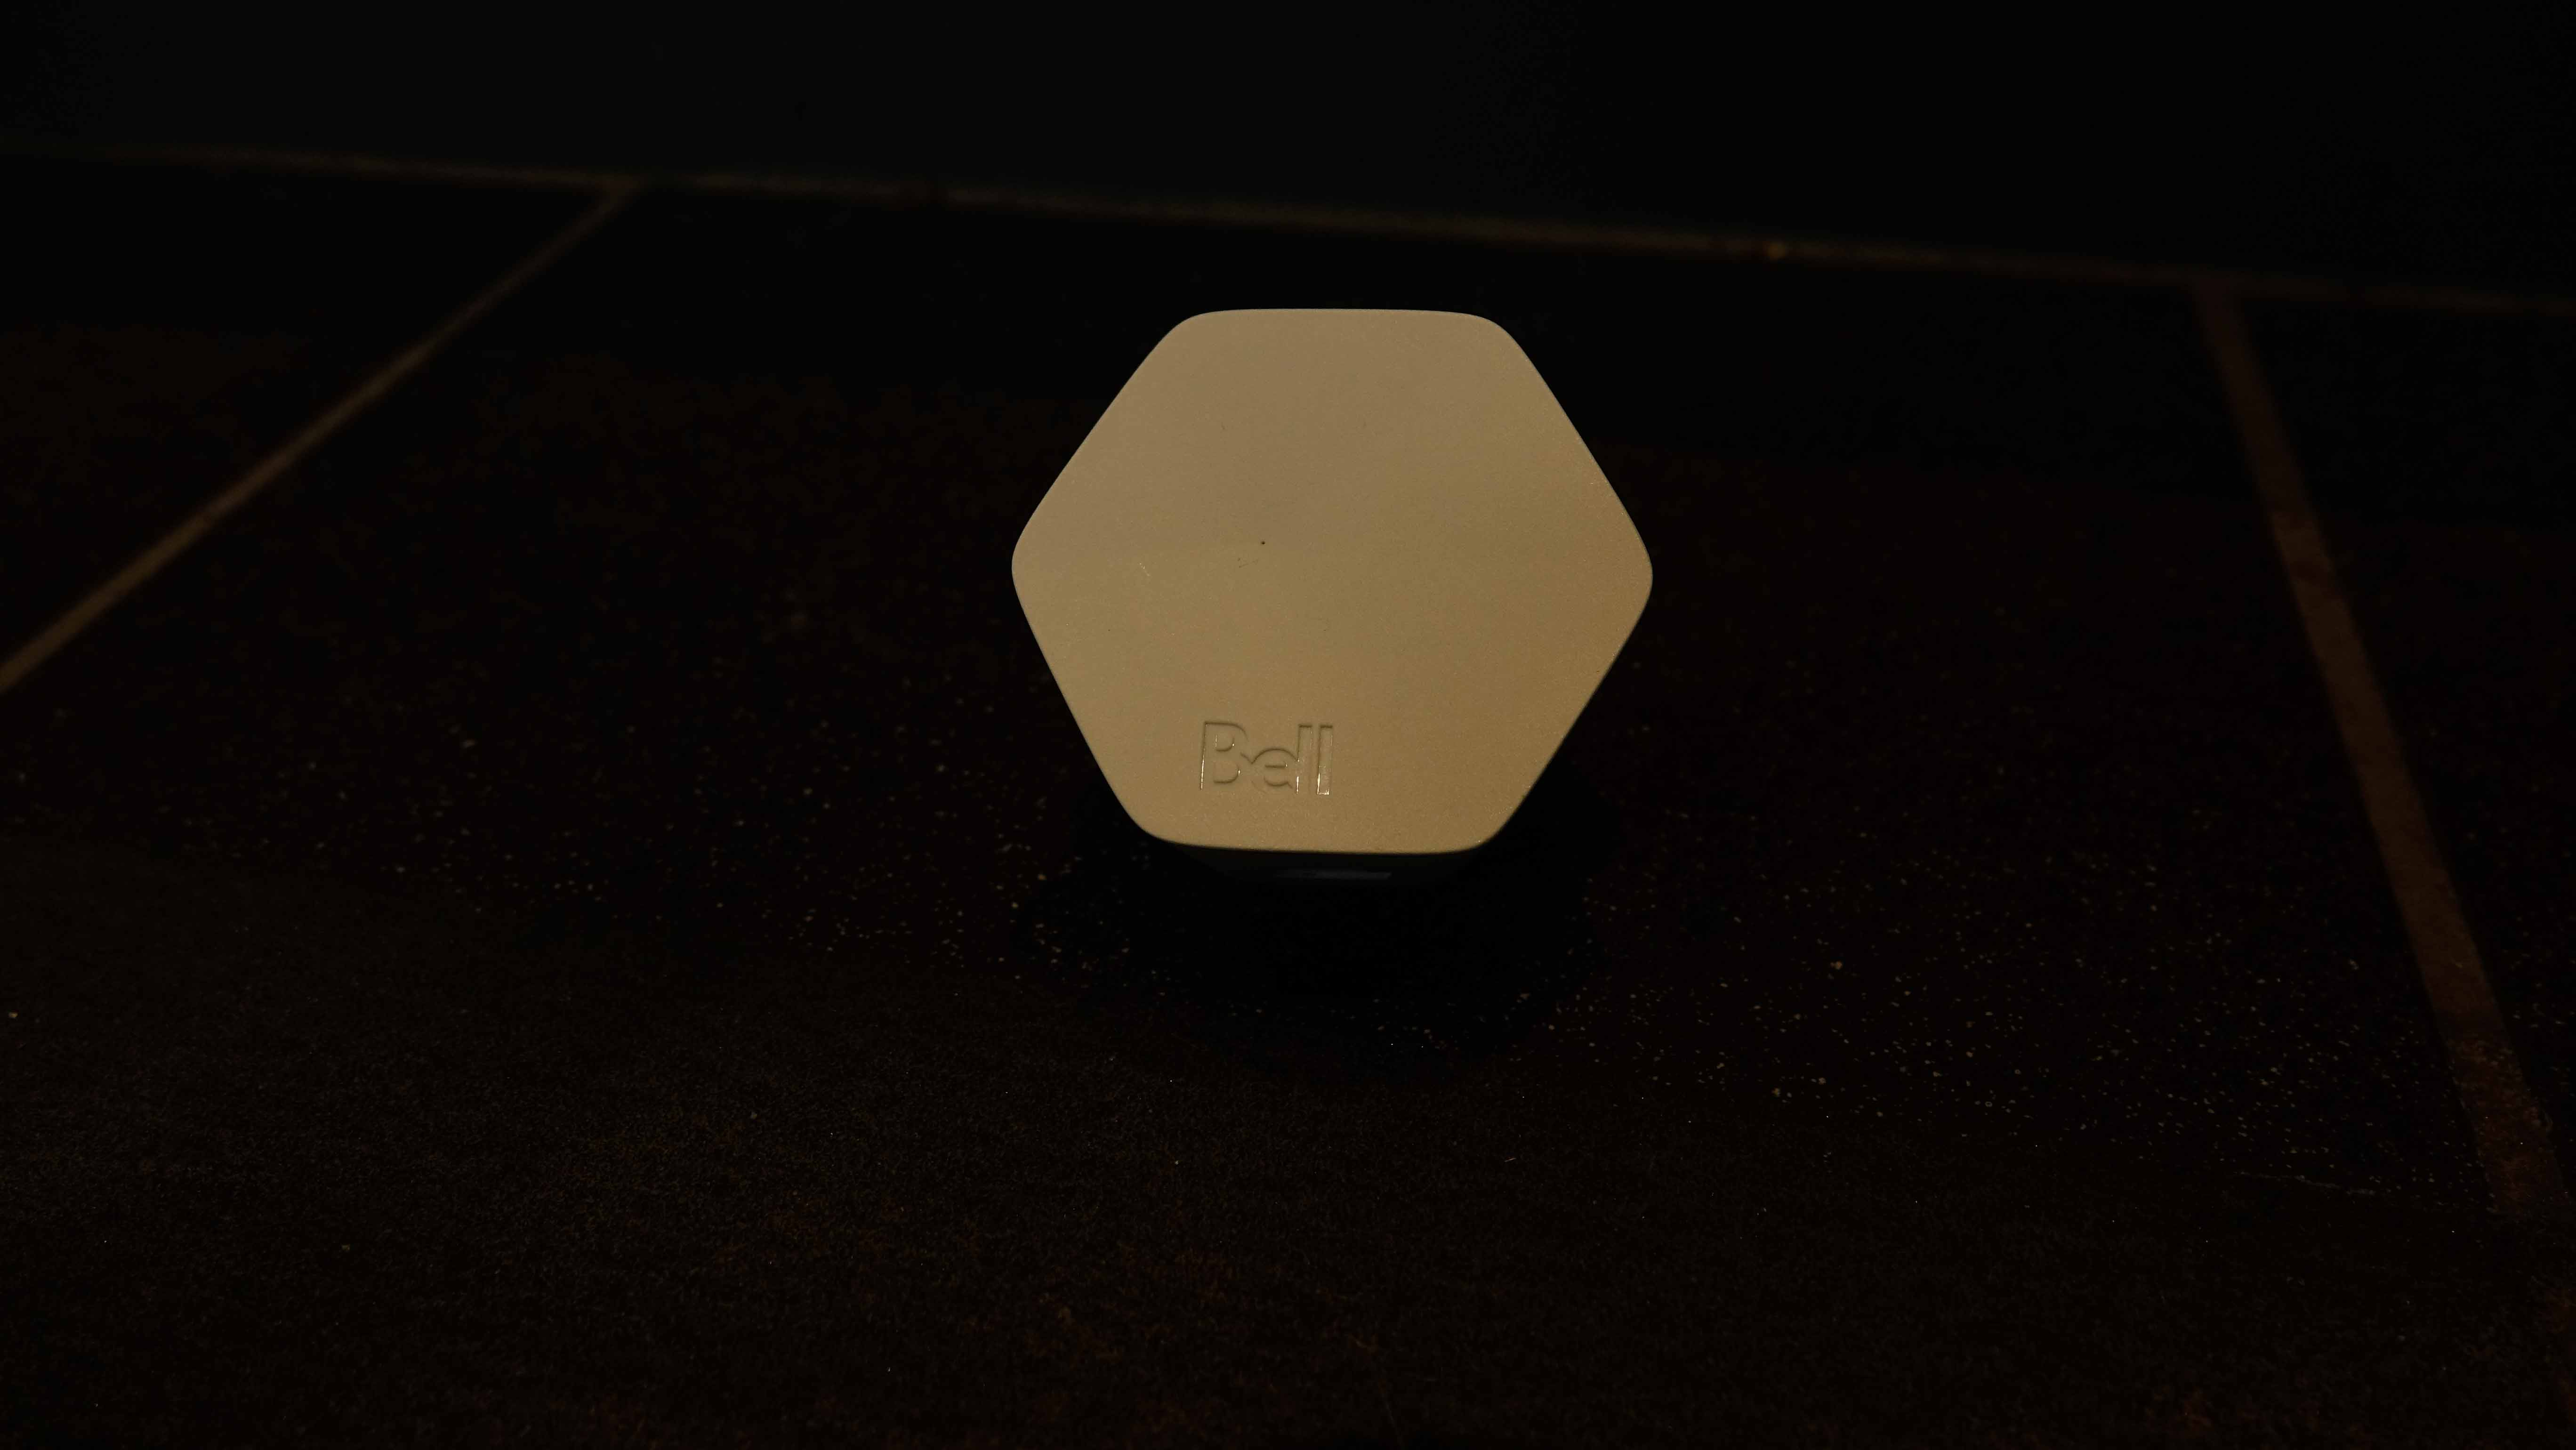pod: (998, 304, 1691, 904)
